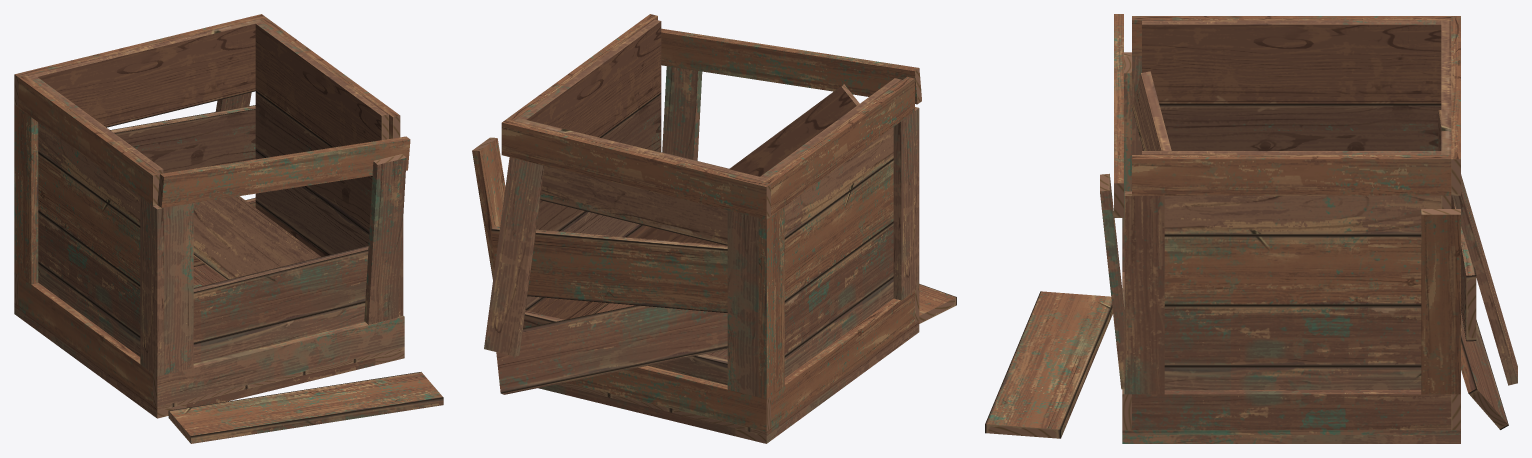
Rendered from crate02_B.fbx.
The picture shows the model from 3 angles, left to right: view 1: azimuth 30°, elevation 25°; view 2: azimuth 150°, elevation 25°; view 3: azimuth 270°, elevation 25°; orthographic projection. The views are drawn at different scales.
Parts seen in each view (by area): view 1: crate02_B; view 2: crate02_B; view 3: crate02_B.
Boxes of the visible parts, left/top/right/bottom form: crate02_B: left=14, top=14, right=443, bottom=443; crate02_B: left=472, top=14, right=956, bottom=443; crate02_B: left=985, top=14, right=1517, bottom=443.
Bounding box in the file's own units: 75.81 × 63.91 × 107.
